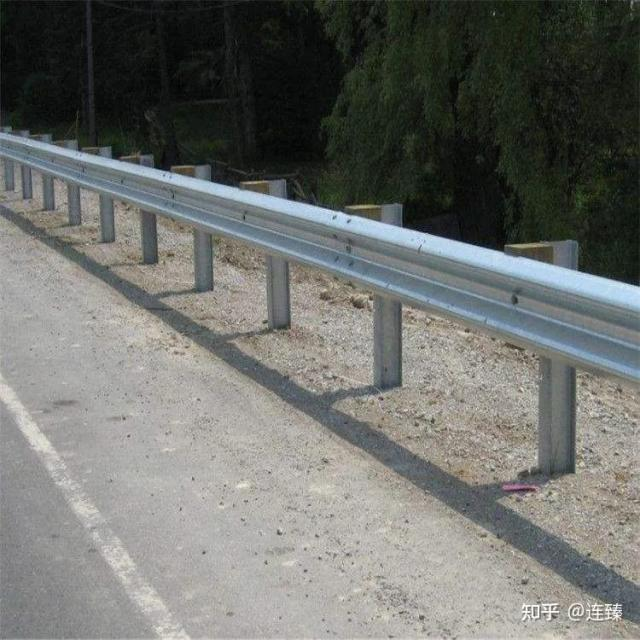Guard rail: (0, 122, 640, 501)
